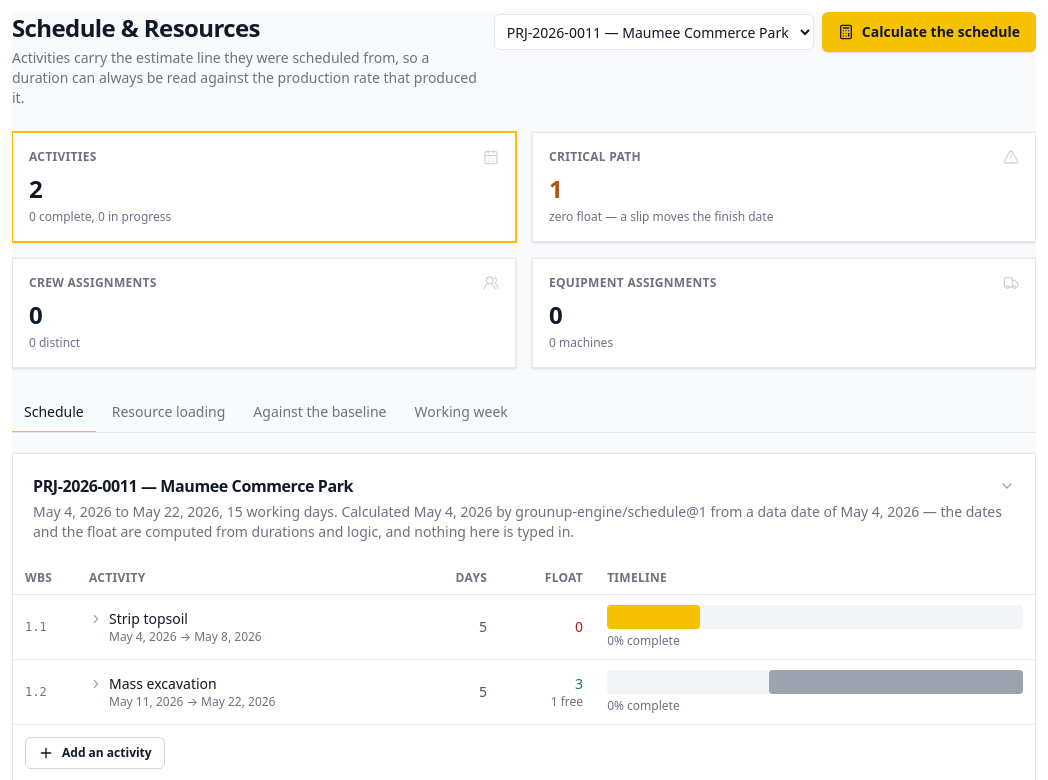
Scenario: a schedule that has been calculated › opens resource loading from the two boxes that count resources
expect the text "Crew assignments" is shown: met, box x1=29 y1=275 x2=157 y2=291
Click the button with aria-label "Show the crew loading" at [93, 282], box x1=12 y1=258 x2=516 y2=368
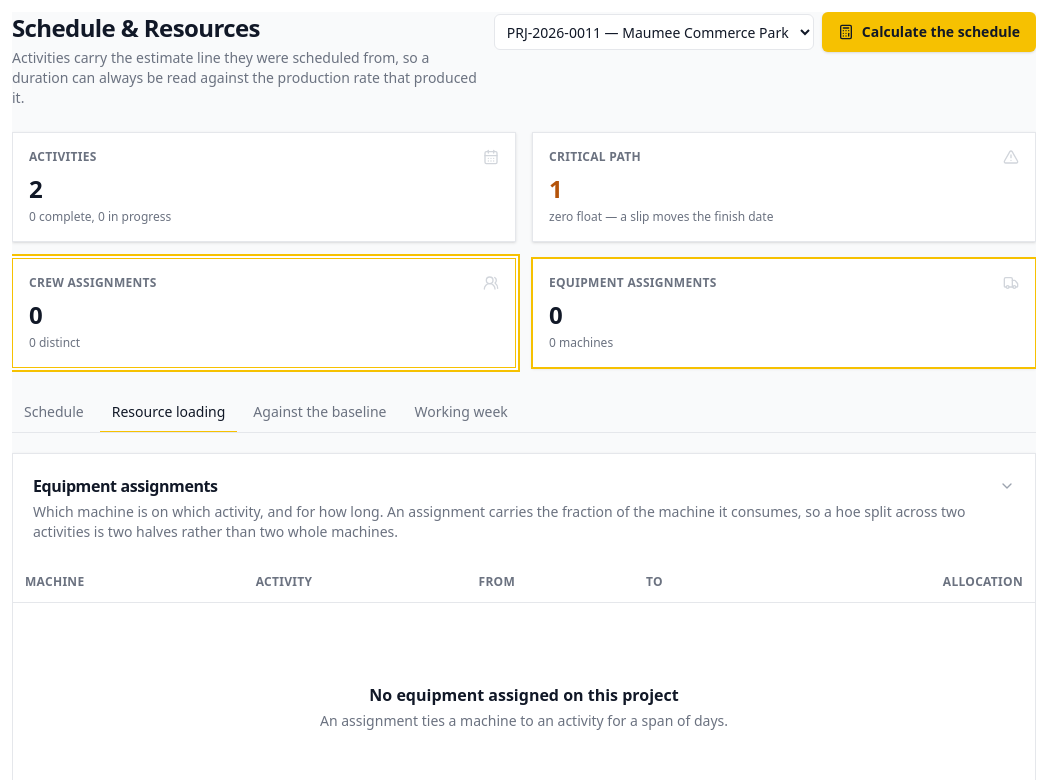
Click the tab "Schedule" at [54, 412], box x1=12 y1=392 x2=96 y2=432
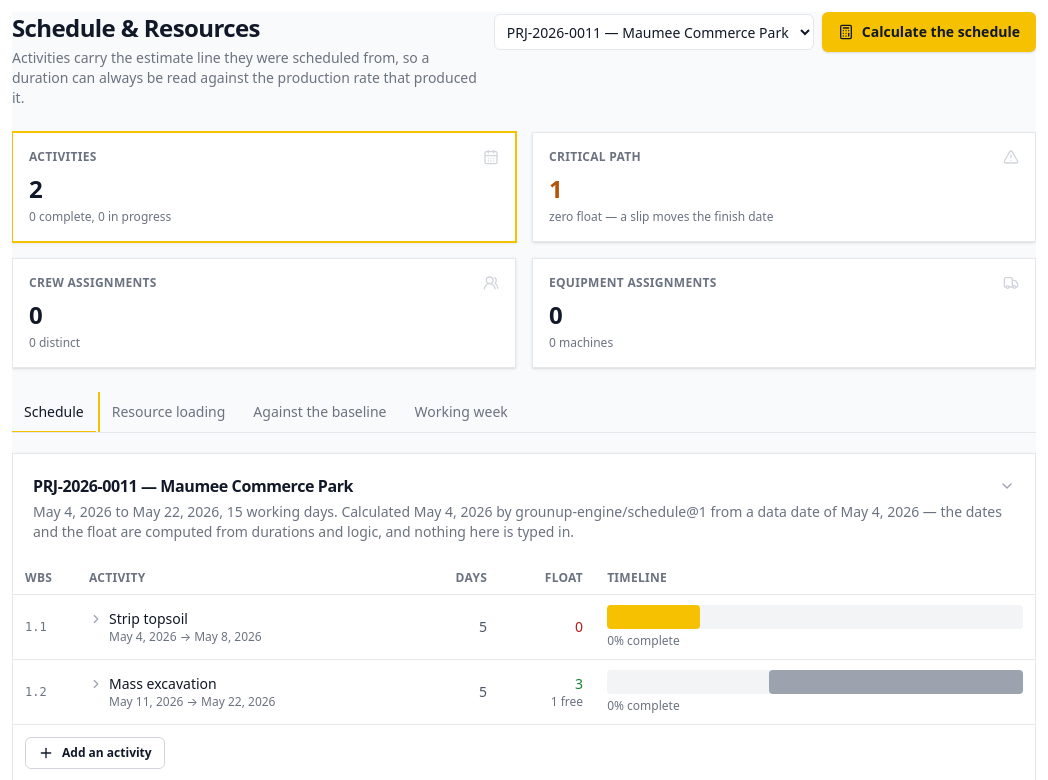
Click the button with aria-label "Show the equipment assignments" at [633, 282], box x1=532 y1=258 x2=1036 y2=368
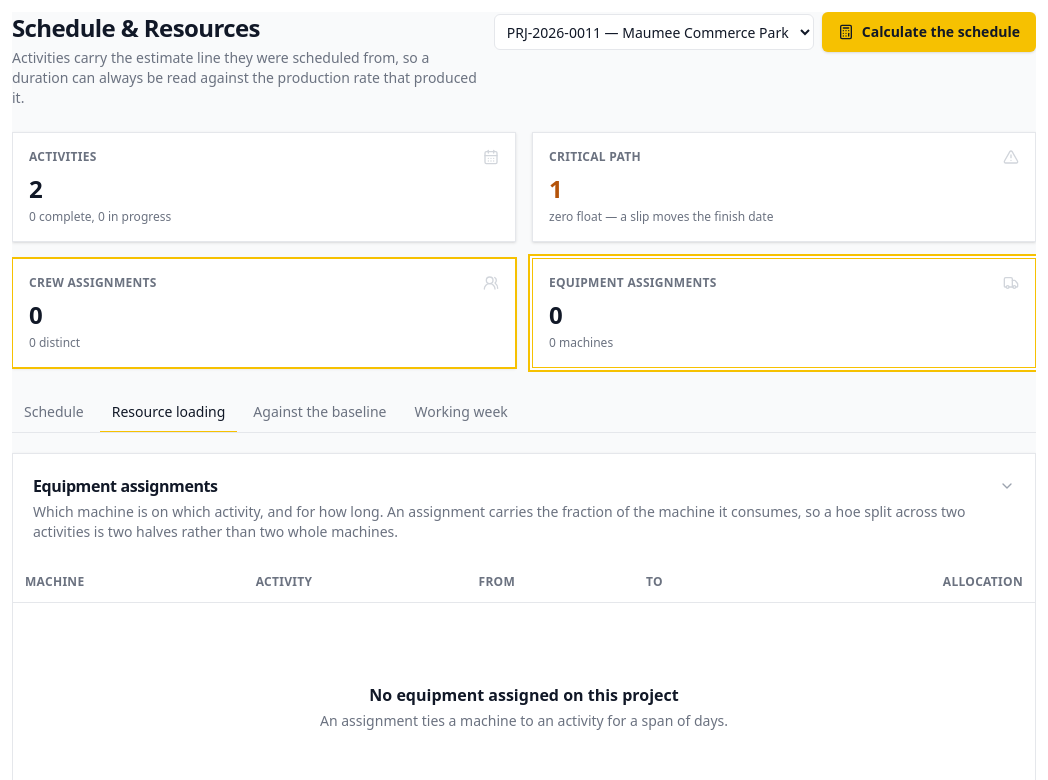
expect the text "Which machine is on which activity" is shown: met, box x1=33 y1=502 x2=966 y2=541
